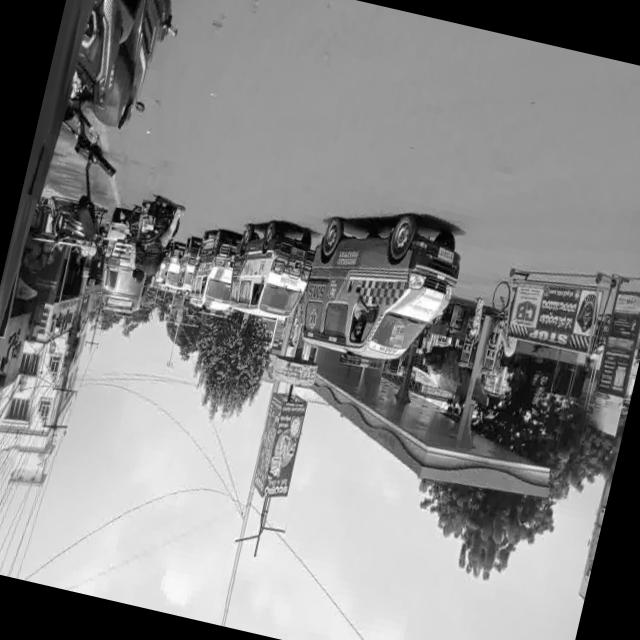ambulance: (293, 206, 464, 384), (222, 218, 316, 333), (90, 222, 156, 310), (184, 235, 239, 312)
